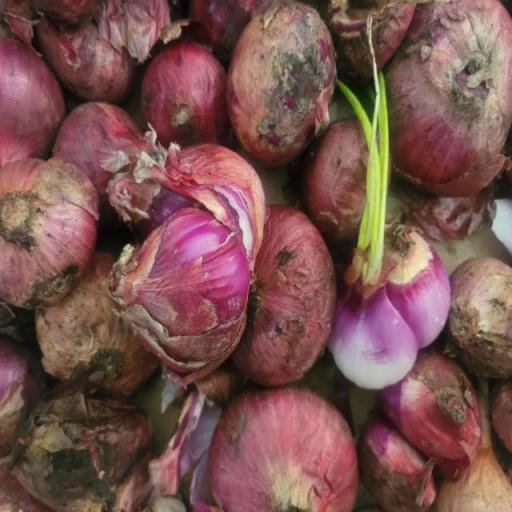damaged: (97, 134, 272, 378), (360, 361, 496, 512), (331, 248, 452, 396)
healthy: (204, 388, 357, 512)
